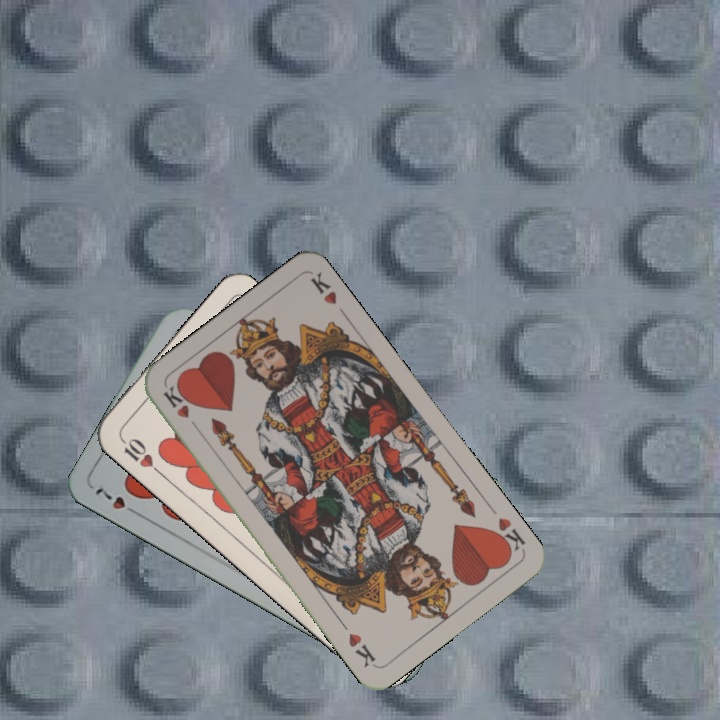H10: (116, 434, 165, 478)
H7: (90, 481, 144, 519)
HK: (158, 382, 203, 434), (487, 513, 528, 559)
